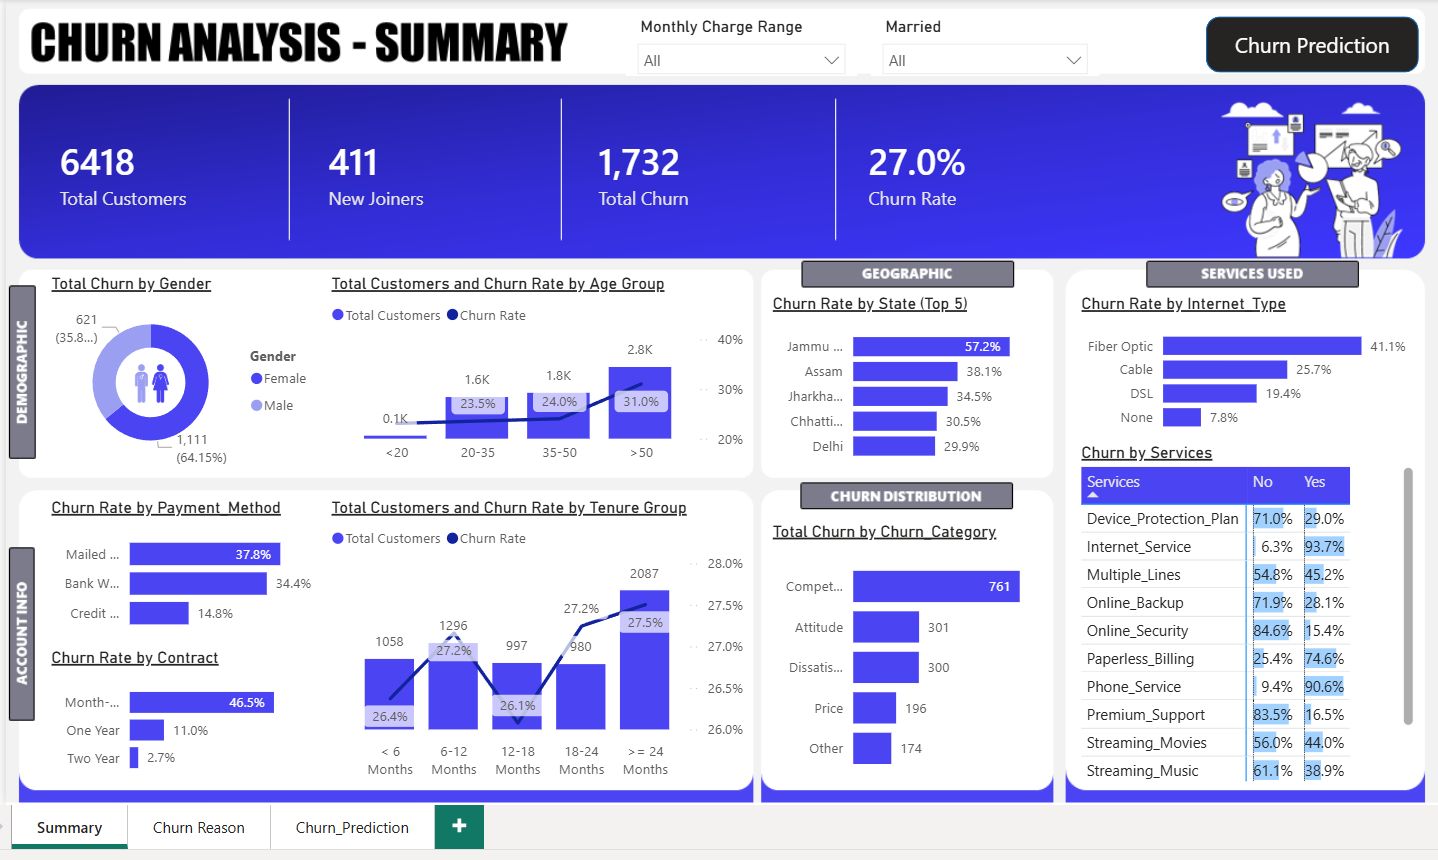

This screenshot's page, from the dashboard's own definition file:
{"tool":"powerbi","page":{"name":"Summary","canvas":[1280,720],"ordinal":0},"visuals":[{"type":"image","box":[100,320.9,60,44.5],"z":0},{"type":"donutChart","fields":{"Category":["prod_Churn.Gender"],"Y":["tbl_Measures.Total Churn"]},"box":[35.5,245.5,248.2,177.3],"z":1000},{"type":"cardVisual","fields":{"Data":["tbl_Measures.New Joiners"]},"box":[259.6,80,235,150],"z":2000},{"type":"cardVisual","fields":{"Data":["tbl_Measures.Total Churn"]},"box":[500.4,80,235,150],"z":3000},{"type":"lineStackedColumnComboChart","fields":{"Category":["Mapping_Age.Age Group"],"Y":["tbl_Measures.Total Customers"],"Y2":["tbl_Measures.Churn Rate"]},"box":[285.5,245.5,378.2,177.3],"z":4000},{"type":"clusteredBarChart","fields":{"Category":["prod_Churn.Payment_Method"],"Y":["tbl_Measures.Churn Rate"]},"box":[35.5,445.5,248.2,130],"z":5000},{"type":"clusteredBarChart","fields":{"Category":["prod_Churn.Contract"],"Y":["tbl_Measures.Churn Rate"]},"box":[35.5,580,248.2,123.6],"z":6000},{"type":"lineStackedColumnComboChart","fields":{"Category":["Mapping_TenureGrp.Tenure Group"],"Y":["tbl_Measures.Total Customers"],"Y2":["tbl_Measures.Churn Rate"]},"box":[285.5,445.5,378.2,258.2],"z":7000},{"type":"clusteredBarChart","title":"Churn Rate by State (Top 5)","fields":{"Category":["prod_Churn.State"],"Y":["tbl_Measures.Churn Rate"]},"box":[680,263.6,255.5,159.1],"z":8000},{"type":"clusteredBarChart","fields":{"Category":["prod_Churn.Churn_Category"],"Y":["tbl_Measures.Total Churn"]},"box":[680,466.4,255.5,237.3],"z":9000},{"type":"clusteredBarChart","fields":{"Category":["prod_Churn.Internet_Type"],"Y":["tbl_Measures.Churn Rate"]},"box":[955.5,263.6,306.4,132.7],"z":10000},{"type":"pivotTable","title":"Churn by Services","fields":{"Rows":["prod_Services.Services"],"Columns":["prod_Services.Status"],"Values":["Sum(prod_Services.Churn Status)"]},"box":[955.5,396.4,306.4,307.3],"z":11000},{"type":"slicer","fields":{"Values":["prod_Churn.Monthly Charge Status"]},"box":[553.8,11.2,206.2,57.5],"z":12000},{"type":"slicer","fields":{"Values":["prod_Churn.Married"]},"box":[772.5,11.2,203.8,57.5],"z":13000},{"type":"cardVisual","fields":{"Data":["tbl_Measures.Total Customers"]},"box":[18.8,80,235,150],"z":14000},{"type":"cardVisual","fields":{"Data":["tbl_Measures.Churn Rate"]},"box":[741.3,80,235,150],"z":15000},{"type":"shape","box":[1071.4,15.7,190,50],"z":16000}]}

Visuals, with their boxes on the page's 1280x720 design canvas (x1, y1, x2, y2). These are canvas units, not pixel positions in the 1438x860 screenshot, which may show the page scaled, cropped or inside an application window:
image: rect(100, 321, 160, 365)
donutChart - prod_Churn.Gender x tbl_Measures.Total Churn: rect(36, 246, 284, 423)
cardVisual - tbl_Measures.New Joiners: rect(260, 80, 495, 230)
cardVisual - tbl_Measures.Total Churn: rect(500, 80, 735, 230)
lineStackedColumnComboChart - Mapping_Age.Age Group x tbl_Measures.Total Customers: rect(286, 246, 664, 423)
clusteredBarChart - prod_Churn.Payment_Method x tbl_Measures.Churn Rate: rect(36, 446, 284, 576)
clusteredBarChart - prod_Churn.Contract x tbl_Measures.Churn Rate: rect(36, 580, 284, 704)
lineStackedColumnComboChart - Mapping_TenureGrp.Tenure Group x tbl_Measures.Total Customers: rect(286, 446, 664, 704)
"Churn Rate by State (Top 5)" clusteredBarChart: rect(680, 264, 936, 423)
clusteredBarChart - prod_Churn.Churn_Category x tbl_Measures.Total Churn: rect(680, 466, 936, 704)
clusteredBarChart - prod_Churn.Internet_Type x tbl_Measures.Churn Rate: rect(956, 264, 1262, 396)
"Churn by Services" pivotTable: rect(956, 396, 1262, 704)
slicer - prod_Churn.Monthly Charge Status: rect(554, 11, 760, 69)
slicer - prod_Churn.Married: rect(772, 11, 976, 69)
cardVisual - tbl_Measures.Total Customers: rect(19, 80, 254, 230)
cardVisual - tbl_Measures.Churn Rate: rect(741, 80, 976, 230)
shape: rect(1071, 16, 1261, 66)
